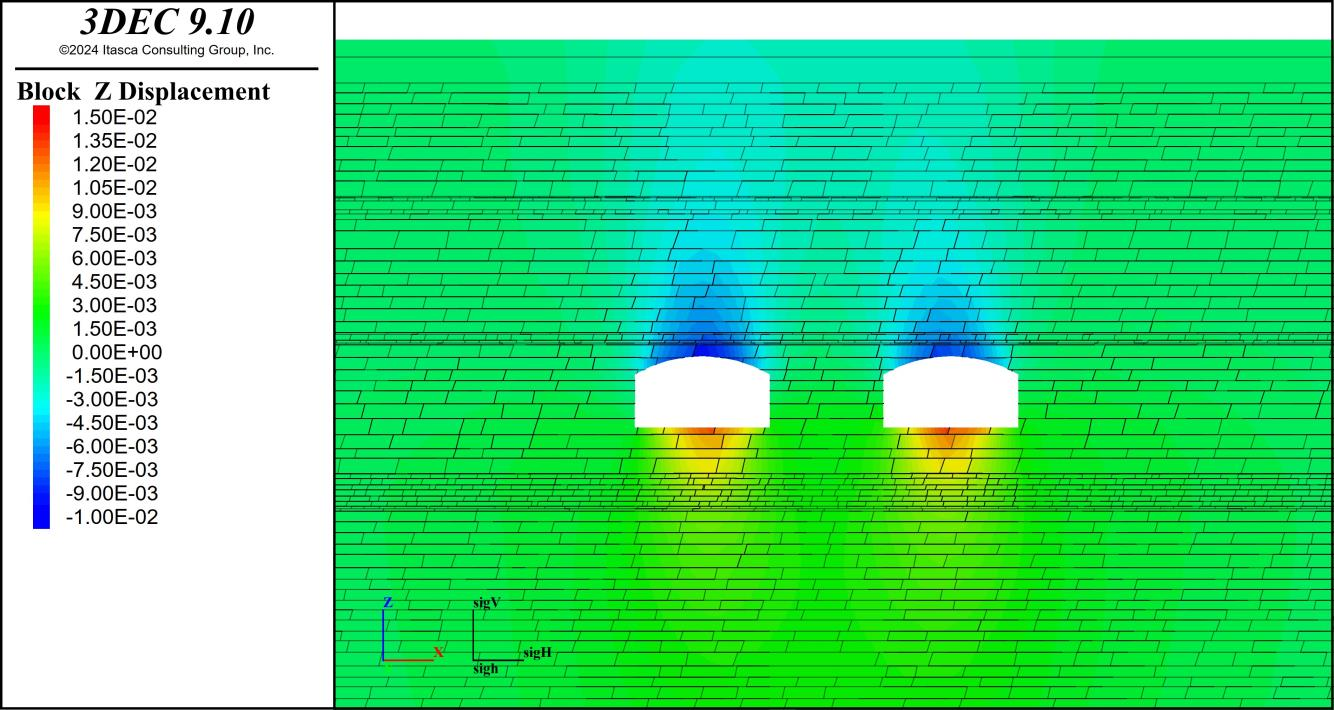crown: (931, 333, 972, 354), (678, 338, 720, 358)
label: (5, 4, 333, 705)
tunnel-opening: (635, 356, 767, 428), (885, 357, 1020, 427)
